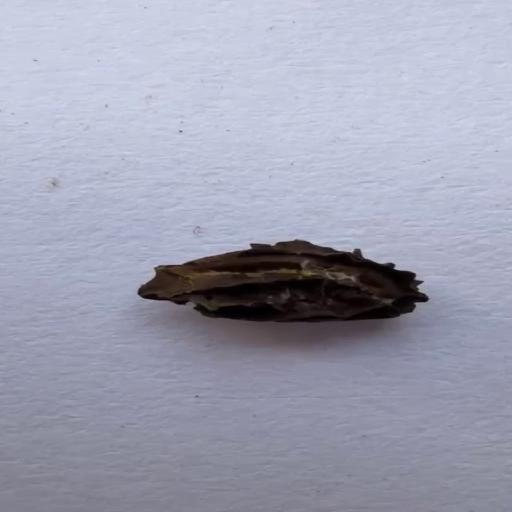papaya_seed: (102, 221, 458, 350)
